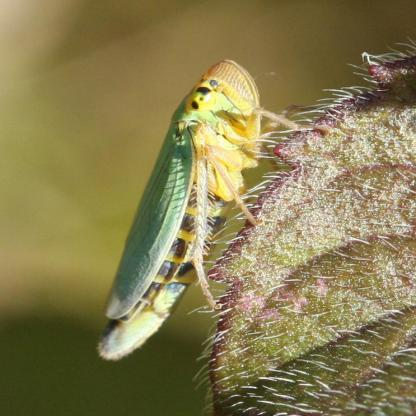Green-Leafhopper: (90, 57, 298, 363)
